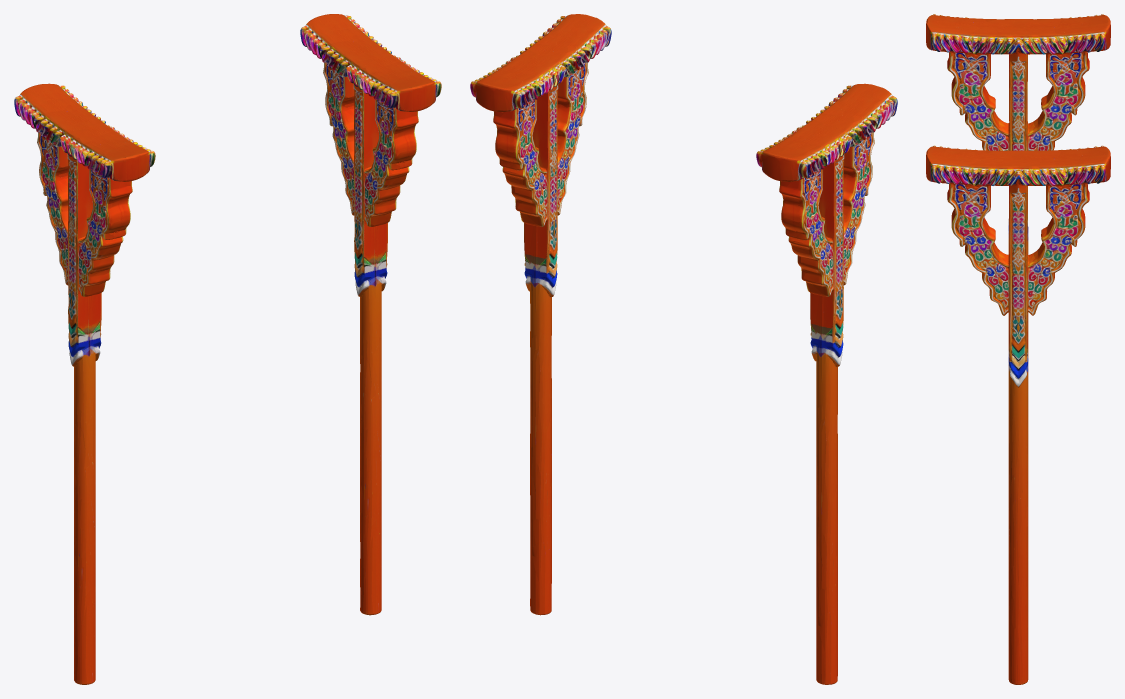
The model's file is bagana.glb.
3 views of the same model, side by side, from view 1: azimuth 30°, elevation 25°; view 2: azimuth 150°, elevation 25°; view 3: azimuth 270°, elevation 25° (orthographic). The views are drawn at different scales.
Visible parts, largest first — view 1: baruun_bagana, zuun_bagana; view 2: zuun_bagana, baruun_bagana; view 3: baruun_bagana, zuun_bagana.
Part boxes in pixels (box(x1,y1,x2,y2)): baruun_bagana: box(300, 14, 441, 615); zuun_bagana: box(14, 83, 155, 684); zuun_bagana: box(756, 83, 897, 684); baruun_bagana: box(470, 14, 611, 615); baruun_bagana: box(926, 145, 1110, 684); zuun_bagana: box(926, 14, 1110, 357).
Size of the model in its own units: 2.02 by 3.21 by 1.02.
Materials: 2 (2 with a texture image).
